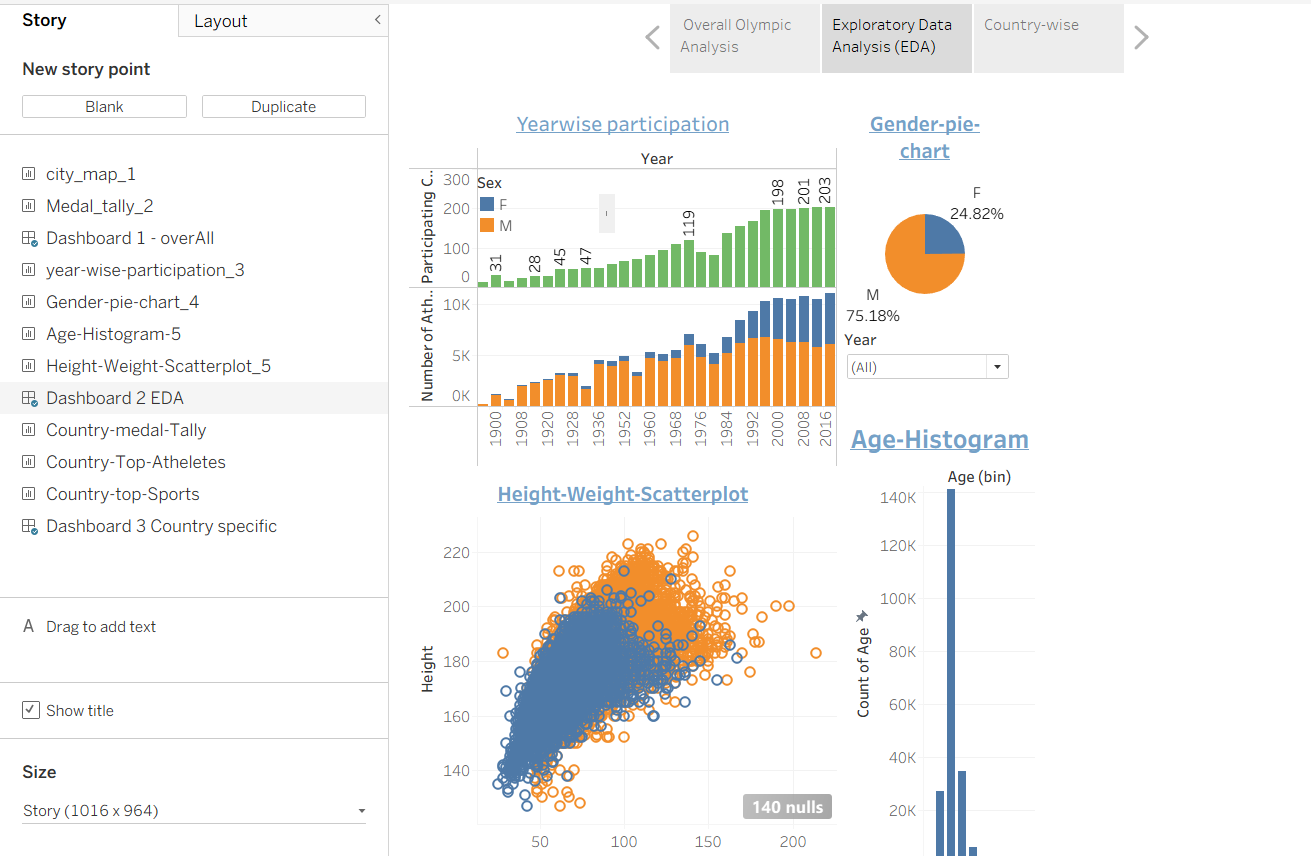

This screenshot's page, from the dashboard's own definition file:
{"tool":"tableau","page":{"name":"Dashboard 2 EDA","canvas":[650,860],"ordinal":1},"visuals":[{"type":"worksheet","title":"year-wise-participation_3","mark":"Automatic","rows":["country","ID"],"cols":["Year"],"box":[8,8.1,436,395.7]},{"type":"worksheet","title":"Gender-pie-chart_4","mark":"Pie","box":[444,8.1,198,333.1]},{"type":"legend","title":"year-wise-participation_3","param":"[federated.15ns31m0mitcjz1bs6cvq17sthcg].[none:Sex:nk]","box":[80,83.8,140,65.6]},{"type":"filter","title":"Gender-pie-chart_4","param":"[federated.15ns31m0mitcjz1bs6cvq17sthcg].[none:Year:ok]","box":[447,251.3,168,62.6]},{"type":"worksheet","title":"Age-Histogram-5","mark":"Automatic","rows":["Age"],"cols":["Age (bin)"],"box":[444,341.2,198,510.8]},{"type":"worksheet","title":"Height-Weight-Scatterplot_5","mark":"Automatic","rows":["Height"],"cols":["Weight"],"box":[8,403.7,436,448.2]}]}

Visuals, with their boxes on the page's 650x860 design canvas (x1, y1, x2, y2). These are canvas units, not pixel positions in the 1311x856 screenshot, which may show the page scaled, cropped or inside an application window:
"year-wise-participation_3" worksheet: 8:8:444:404
"Gender-pie-chart_4" worksheet (Pie marks): 444:8:642:341
"year-wise-participation_3" legend: 80:84:220:149
"Gender-pie-chart_4" filter: 447:251:615:314
"Age-Histogram-5" worksheet: 444:341:642:852
"Height-Weight-Scatterplot_5" worksheet: 8:404:444:852
